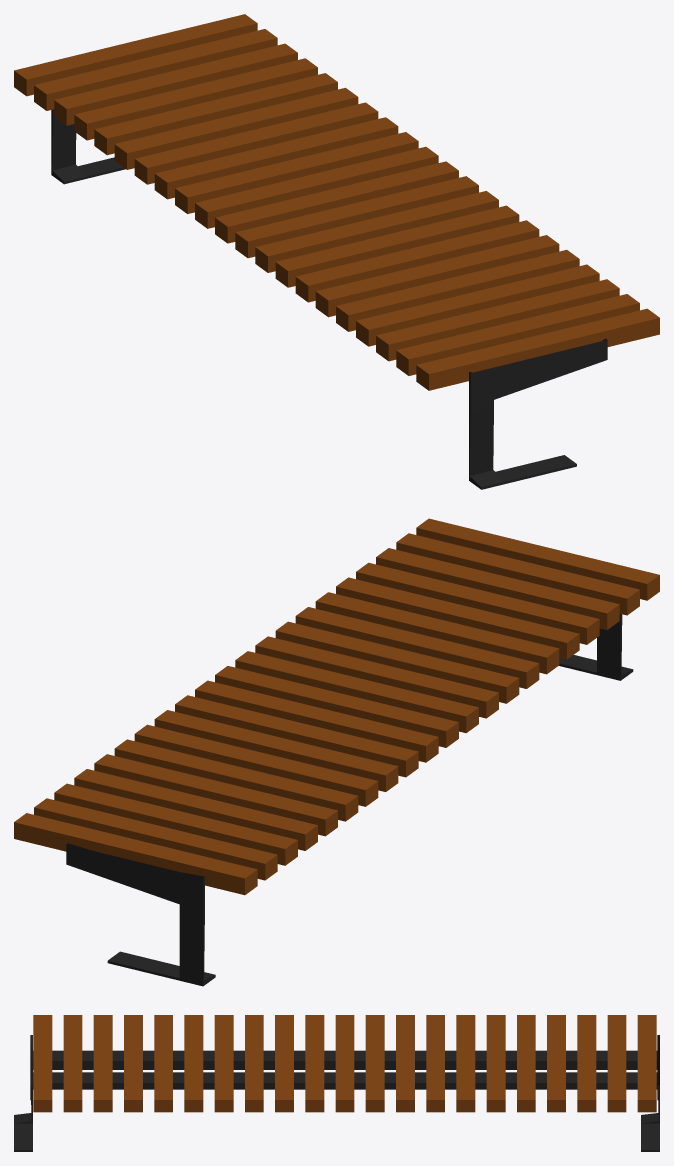
Rendered from BancoSS.fbx.
The picture shows the model from 3 angles, top to bottom: view 1: azimuth 30°, elevation 25°; view 2: azimuth 150°, elevation 25°; view 3: azimuth 270°, elevation 25°; orthographic projection. The views are drawn at different scales.
Visible parts, largest first — view 1: Maderas, Base; view 2: Maderas, Base; view 3: Maderas, Base.
Boxes of the visible parts, x1=… form: Maderas: x1=14, y1=14, x2=659, y2=390; Base: x1=51, y1=109, x2=607, y2=489; Maderas: x1=14, y1=518, x2=659, y2=895; Base: x1=66, y1=614, x2=633, y2=986; Maderas: x1=33, y1=1015, x2=656, y2=1112; Base: x1=14, y1=1035, x2=659, y2=1151.
Size of the model in its own units: 0.7248 by 0.3476 by 2.34.
